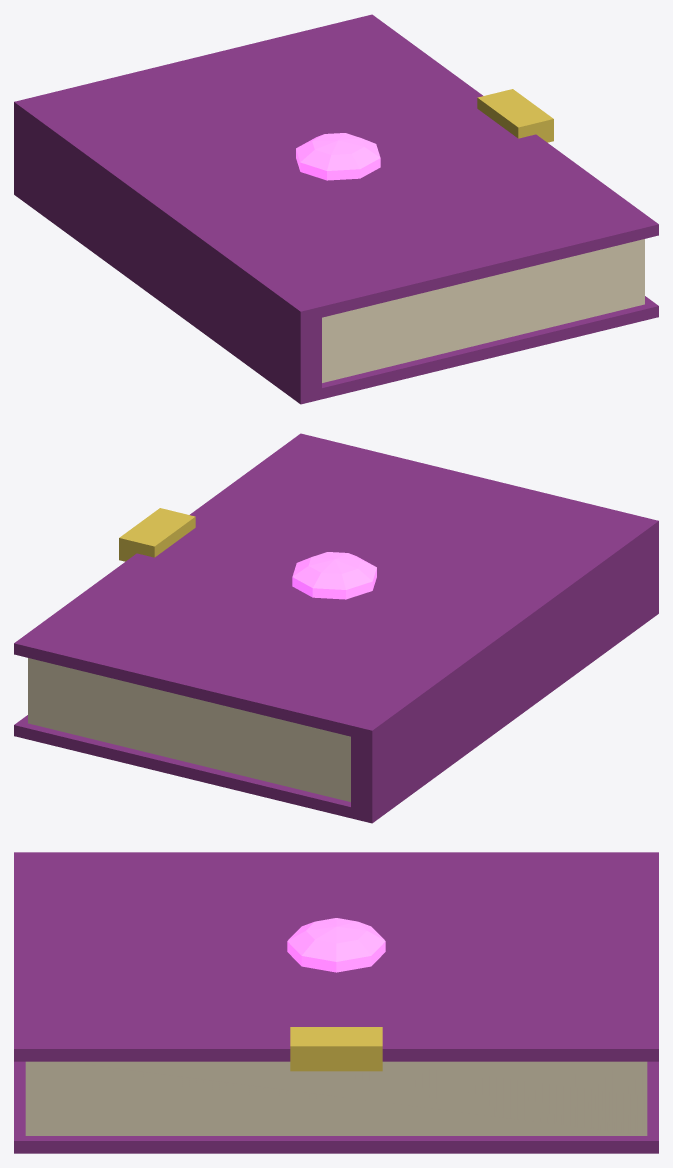
File: artifact_spellbook.glb
The picture shows the model from 3 angles, top to bottom: view 1: azimuth 30°, elevation 25°; view 2: azimuth 150°, elevation 25°; view 3: azimuth 270°, elevation 25°; orthographic projection. The views are drawn at different scales.
Visible parts, largest first — view 1: artifact_spellbook; view 2: artifact_spellbook; view 3: artifact_spellbook.
Boxes of the visible parts, bbox=[...] form: artifact_spellbook: bbox=[14, 14, 658, 404]; artifact_spellbook: bbox=[14, 433, 658, 823]; artifact_spellbook: bbox=[14, 852, 658, 1153].
Size of the model in its own units: 0.212 by 0.062 by 0.28.
